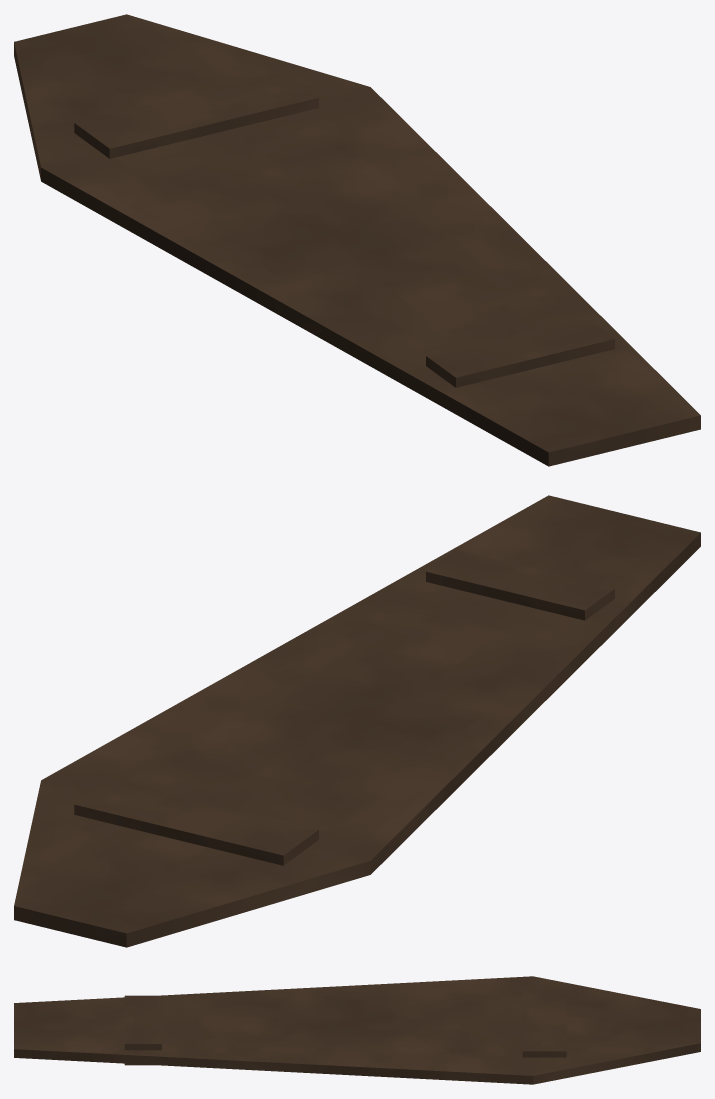
Rendered from coffin_lid.glb.
3 views of the same model, one above another, from view 1: azimuth 30°, elevation 25°; view 2: azimuth 150°, elevation 25°; view 3: azimuth 270°, elevation 25° (orthographic). The views are drawn at different scales.
Visible parts, largest first — view 1: coffin_lid; view 2: coffin_lid; view 3: coffin_lid.
Boxes of the visible parts, <box> form: coffin_lid: <box>14,14,700,466</box>; coffin_lid: <box>14,495,700,947</box>; coffin_lid: <box>14,976,700,1084</box>.
Bounding box in the file's own units: 0.7221 × 0.0722 × 2.1.
1 material, 1 textured.
